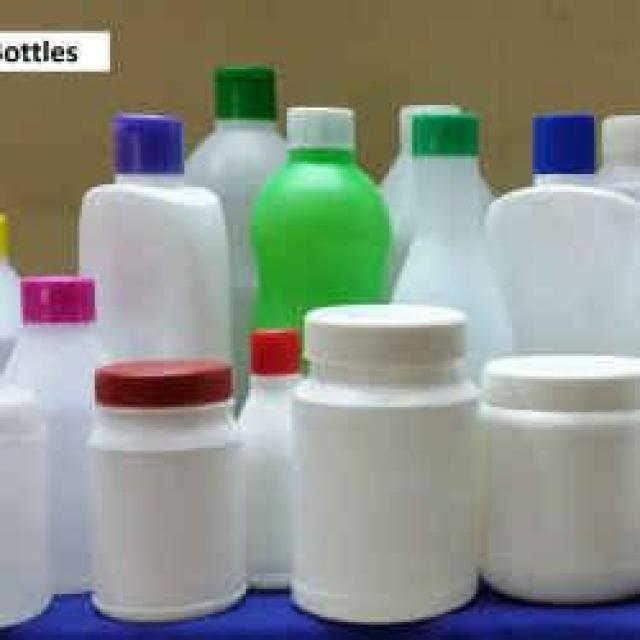plastic_bottle: (297, 289, 489, 624), (61, 88, 246, 388), (68, 336, 255, 626), (464, 329, 640, 613), (482, 106, 640, 388), (182, 52, 310, 362), (248, 105, 409, 340), (6, 254, 111, 608), (402, 115, 517, 366)
